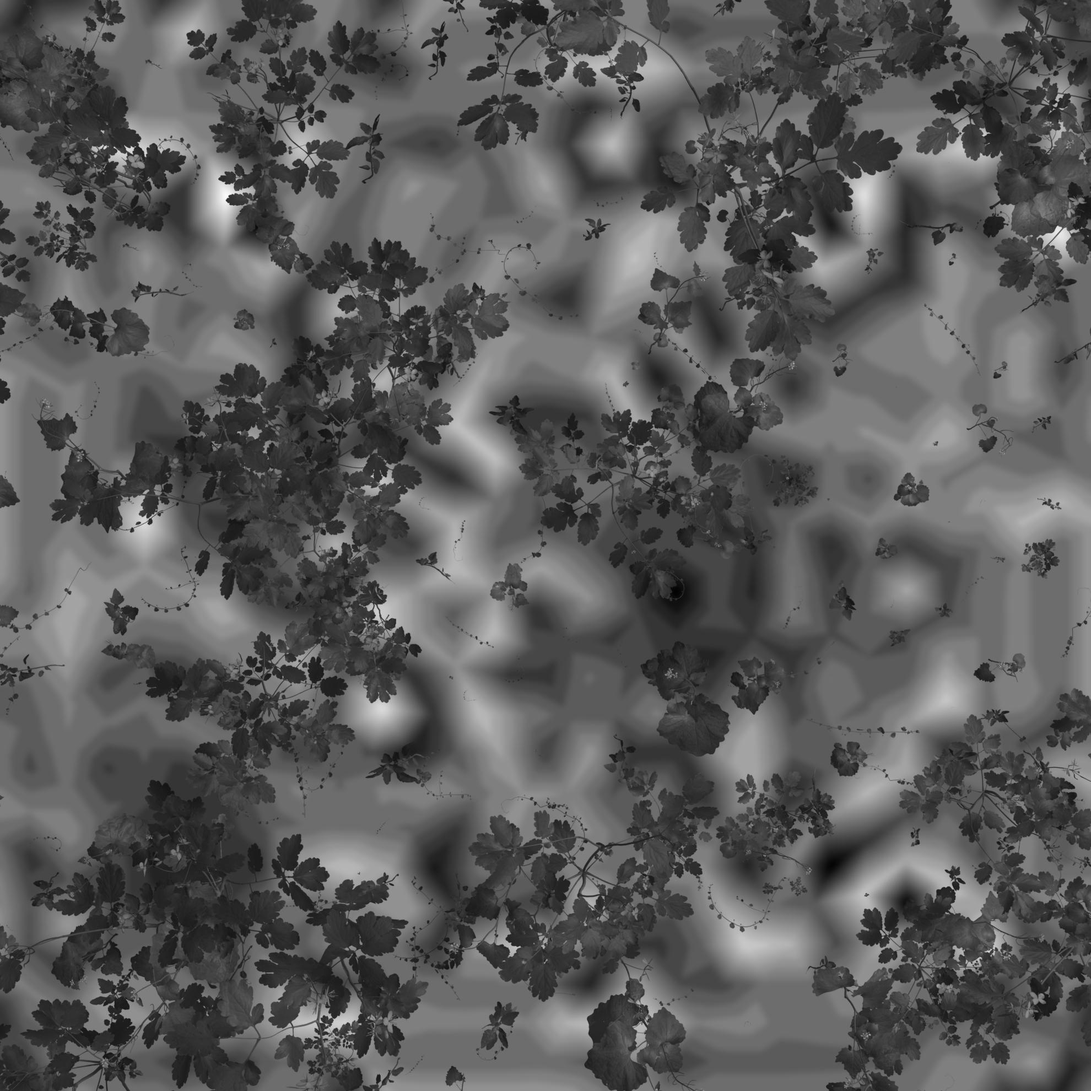landmine: (622, 551, 713, 632)
